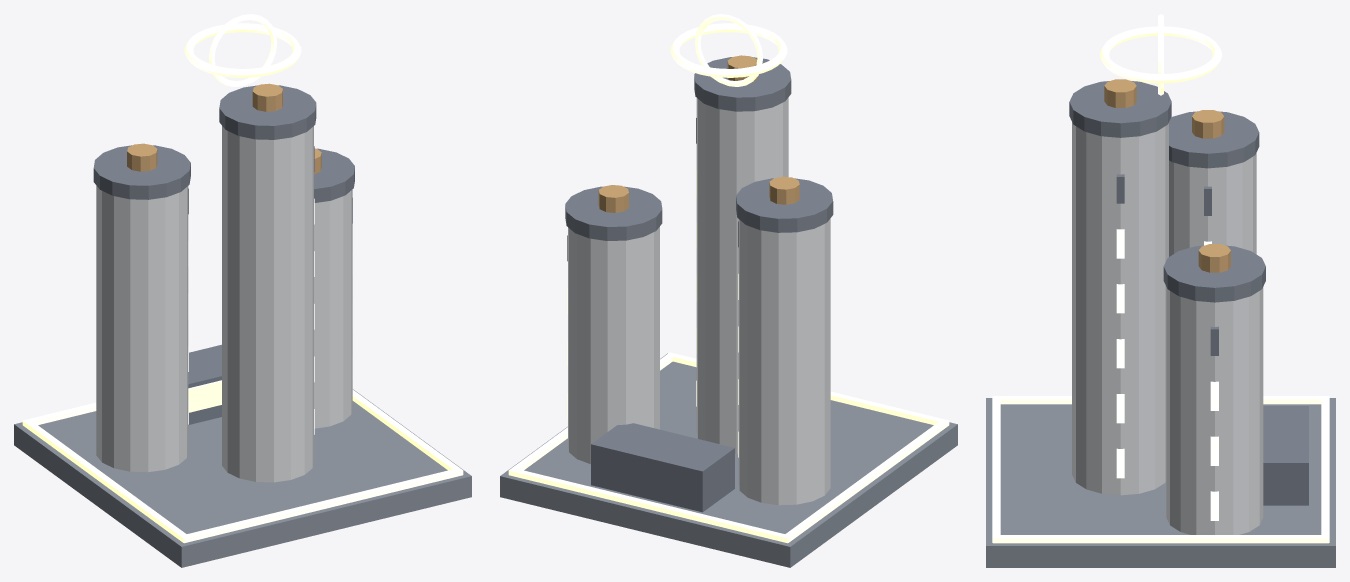
Rendered from battery_works.glb.
3 renders of one model, left to right at view 1: azimuth 30°, elevation 25°; view 2: azimuth 150°, elevation 25°; view 3: azimuth 270°, elevation 25°, orthographic. The views are drawn at different scales.
Visible parts, largest first — view 1: Cylinder.003, Cube, Cylinder, Cylinder.006, Cylinder.004, Cylinder.001, Cube.001, Torus, Cube.002, Cylinder.007, Cube.020, Cube.004 (+5 smaller); view 2: Cylinder, Cube, Cylinder.006, Cylinder.003, Cube.020, Cylinder.001, Cylinder.007, Cylinder.004, Cube.003, Torus, Cube.002, Cube.001 (+4 smaller); view 3: Cylinder.003, Cube, Cylinder.006, Cylinder, Cube.020, Cylinder.007, Cylinder.004, Cylinder.001, Cube.004, Torus, Cube.001, Cube.003 (+4 smaller).
Part boxes in pixels (box(x1,y1,x2,y2)): Cylinder.003: box(222, 126, 313, 482); Cube: box(14, 389, 471, 567); Cylinder: box(96, 186, 188, 472); Cylinder.006: box(314, 189, 352, 428); Cylinder.004: box(219, 85, 316, 139); Cylinder.001: box(93, 145, 190, 199); Cube.001: box(181, 468, 462, 543); Torus: box(184, 23, 301, 77); Cube.002: box(22, 419, 186, 542); Cylinder.007: box(314, 148, 354, 202); Cube.020: box(188, 344, 221, 424); Cube.004: box(352, 389, 463, 474); Cylinder: box(738, 218, 830, 505); Cube: box(500, 353, 957, 567); Cylinder.006: box(568, 227, 659, 464); Cylinder.003: box(696, 97, 788, 453); Cube.020: box(591, 423, 734, 512); Cylinder.001: box(736, 178, 833, 232); Cylinder.007: box(565, 186, 662, 240); Cylinder.004: box(694, 57, 791, 111); Cube.003: box(509, 468, 790, 543); Torus: box(670, 23, 787, 77); Cube.002: box(785, 421, 949, 542); Cube.001: box(668, 352, 948, 424); Cylinder.003: box(1072, 122, 1168, 495); Cube: box(986, 398, 1335, 567); Cylinder.006: box(1166, 287, 1263, 534); Cylinder: box(1169, 153, 1256, 256); Cube.020: box(1263, 406, 1308, 505); Cylinder.007: box(1163, 245, 1265, 302); Cylinder.004: box(1069, 81, 1171, 137); Cylinder.001: box(1169, 111, 1259, 168); Cube.004: box(993, 535, 1328, 543); Torus: box(1100, 26, 1221, 83); Cube.001: box(992, 396, 1000, 542); Cube.003: box(1321, 396, 1329, 542).
Bounding box in the file's own units: 2.6 × 3.9 × 2.6.
